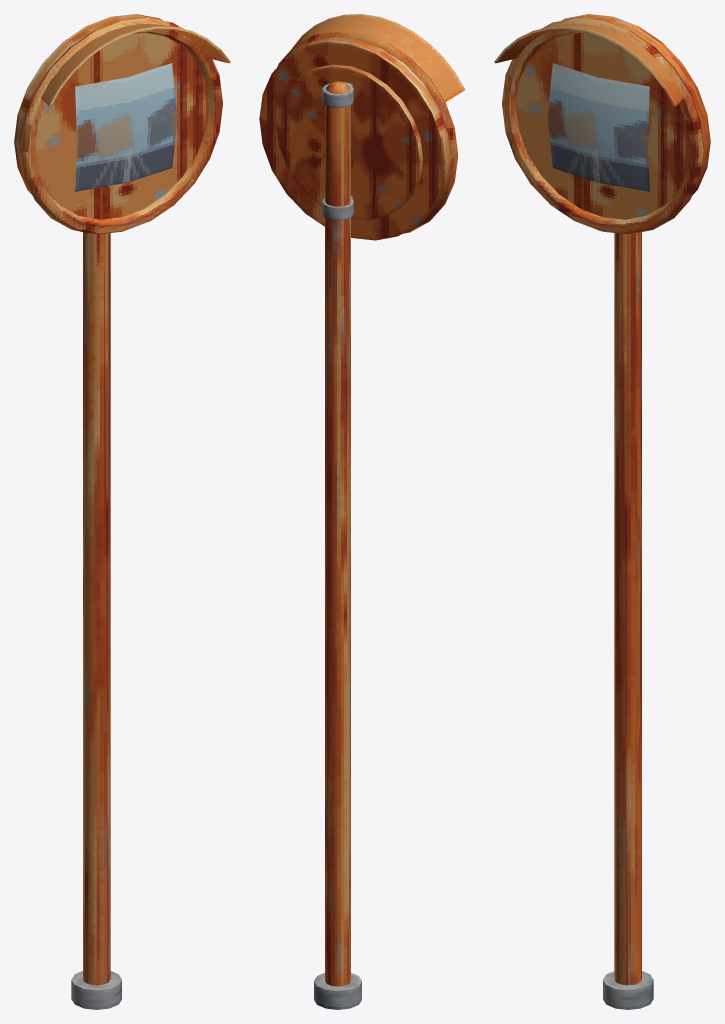
Rendered from mirror_pole.glb.
The picture shows the model from 3 angles, left to right: view 1: azimuth 30°, elevation 25°; view 2: azimuth 150°, elevation 25°; view 3: azimuth 330°, elevation 25°; orthographic projection. The views are drawn at different scales.
Parts seen in each view (by area): view 1: mesh; view 2: mesh; view 3: mesh.
Boxes of the visible parts, x1,y1,x2,y2 form: mesh: (14, 14, 230, 1009); mesh: (259, 14, 465, 1009); mesh: (494, 14, 710, 1009).
Bounding box in the file's own units: 0.6321 × 3 × 0.3043.
1 material, 1 textured.
